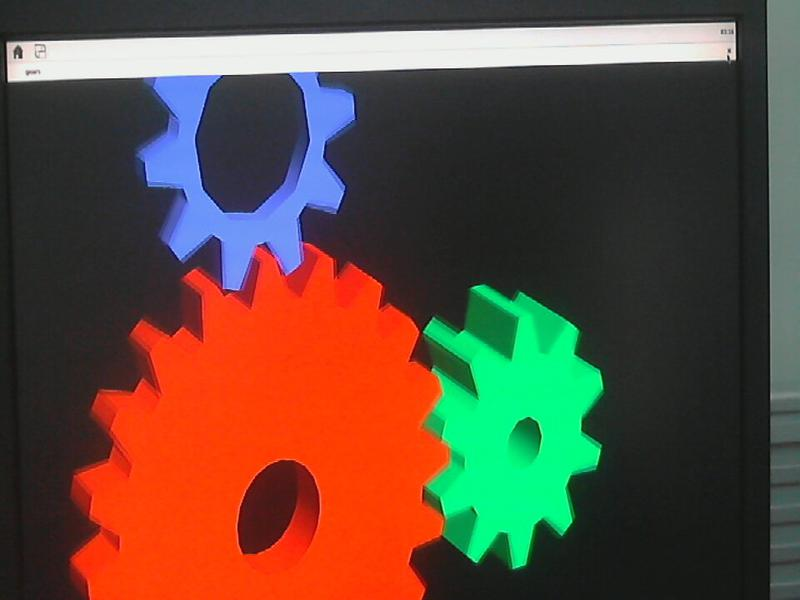glxgears_pass: (8, 33, 599, 600)
